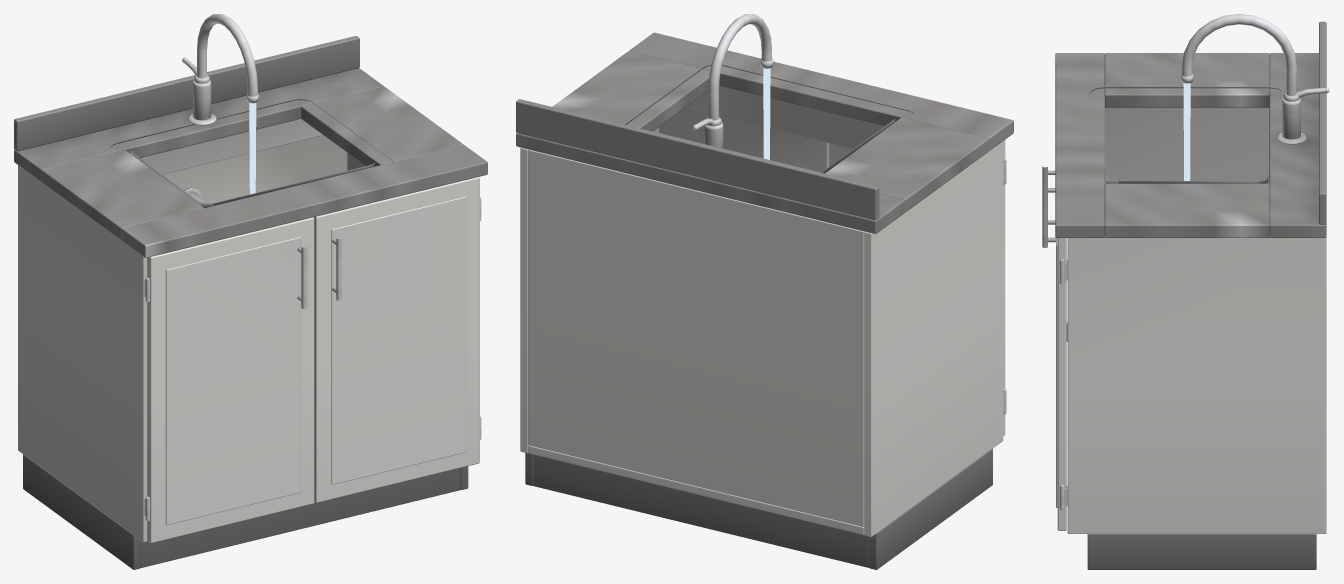
Rendered from int_pia.glb.
3 views of the same model, side by side, from view 1: azimuth 30°, elevation 25°; view 2: azimuth 150°, elevation 25°; view 3: azimuth 270°, elevation 25° (orthographic). The views are drawn at different scales.
Parts seen in each view (by area): view 1: corpo, porta_E, porta_D, agua; view 2: corpo, porta_D, porta_E, agua; view 3: corpo, porta_D, agua.
Part boxes in pixels (left/top/right/bottom): corpo: left=14, top=14, right=487, bottom=569; porta_E: left=147, top=217, right=314, bottom=543; porta_D: left=314, top=177, right=479, bottom=502; agua: left=249, top=103, right=256, bottom=194; corpo: left=516, top=14, right=1013, bottom=569; porta_D: left=659, top=108, right=829, bottom=172; porta_E: left=829, top=140, right=1005, bottom=435; agua: left=763, top=68, right=770, bottom=159; corpo: left=1055, top=14, right=1326, bottom=569; porta_D: left=1042, top=184, right=1066, bottom=530; agua: left=1183, top=83, right=1190, bottom=180.
Bounding box in the file's own units: 0.82 × 1.05 × 0.5769.
Materials: 4 (4 with a texture image).
